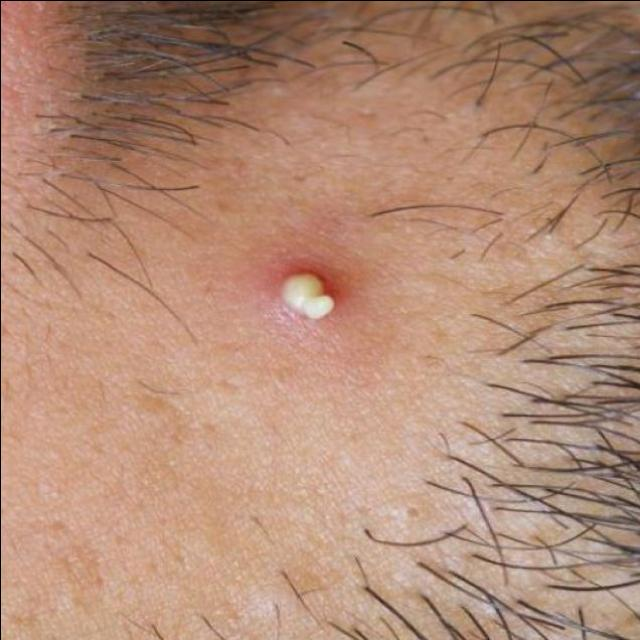pustule: (229, 222, 382, 360)
